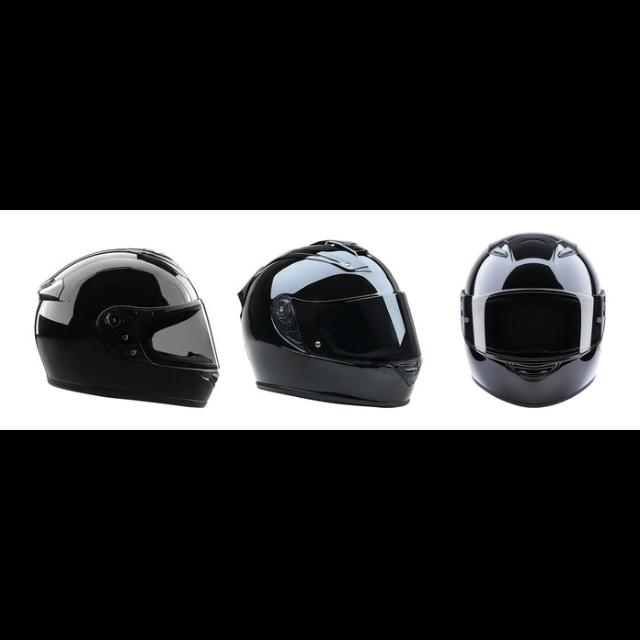motorcycle-helmets: (234, 237, 426, 413), (31, 246, 221, 414), (456, 230, 610, 412)
